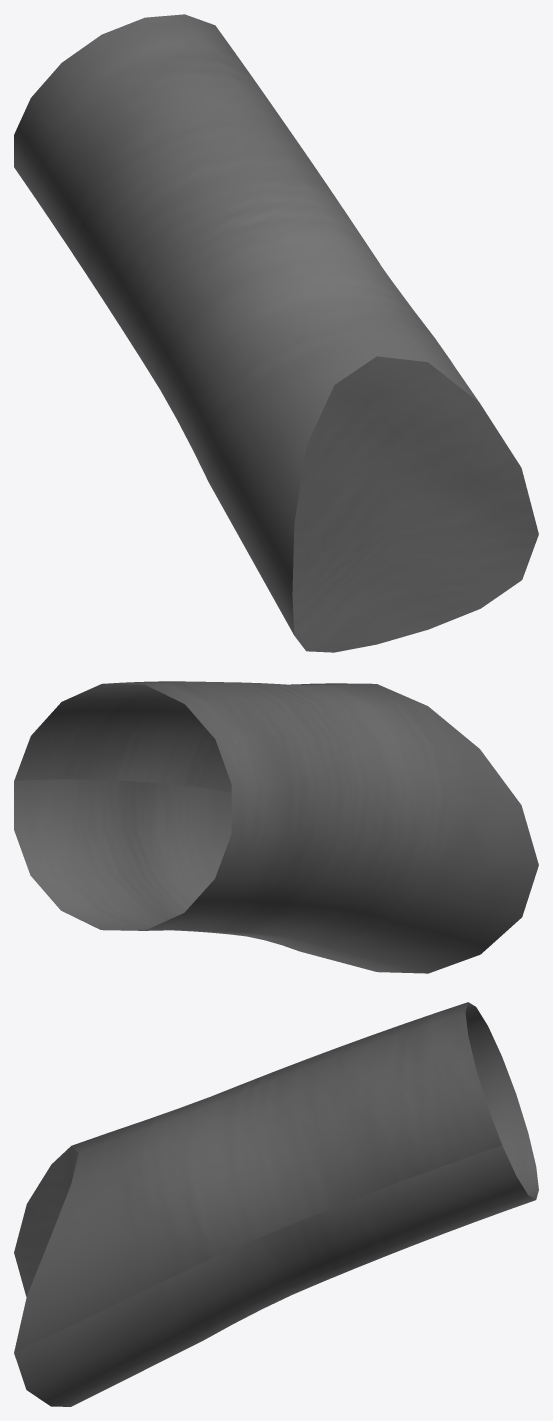
File: mastarmcurve_4x1_c0.obj
The picture shows the model from 3 angles, top to bottom: view 1: azimuth 30°, elevation 25°; view 2: azimuth 150°, elevation 25°; view 3: azimuth 270°, elevation 25°; orthographic projection. The views are drawn at different scales.
Visible parts, largest first — view 1: mastarm_4x1_c0; view 2: mastarm_4x1_c0; view 3: mastarm_4x1_c0.
Boxes of the visible parts, x1,y1,x2,y2 form: mastarm_4x1_c0: (14, 14, 538, 652); mastarm_4x1_c0: (14, 681, 538, 973); mastarm_4x1_c0: (14, 1002, 538, 1406).
Bounding box in the file's own units: 0.6306 × 1.12 × 1.39.
